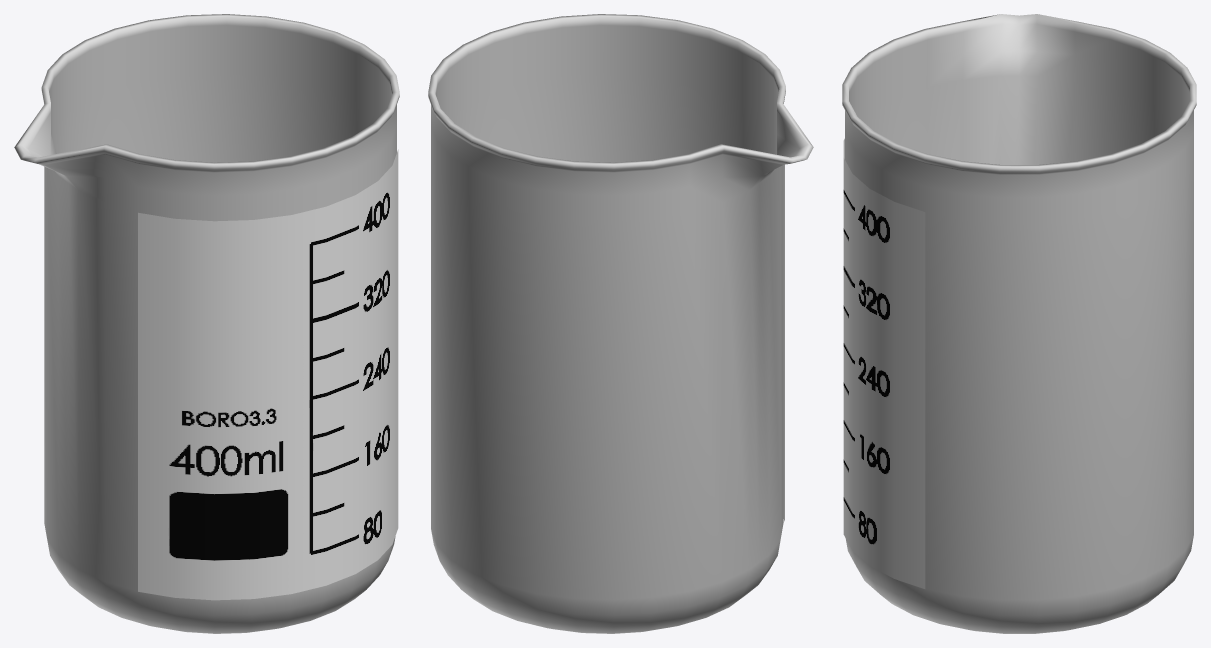
Rendered from Gelas_Beker.fbx.
3 views of the same model, side by side, from view 1: azimuth 30°, elevation 25°; view 2: azimuth 150°, elevation 25°; view 3: azimuth 270°, elevation 25° (orthographic).
Visible parts, largest first — view 1: Cylinder; view 2: Cylinder; view 3: Cylinder.
Boxes of the visible parts, x1,y1,x2,y2 form: Cylinder: [14, 14, 399, 633]; Cylinder: [428, 14, 813, 633]; Cylinder: [842, 14, 1196, 633].
Bounding box in the file's own units: 308 × 408 × 268.
